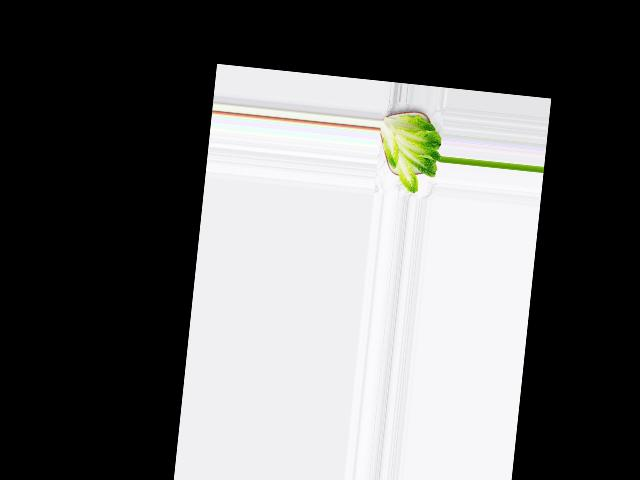lettuce: (375, 107, 446, 196)
